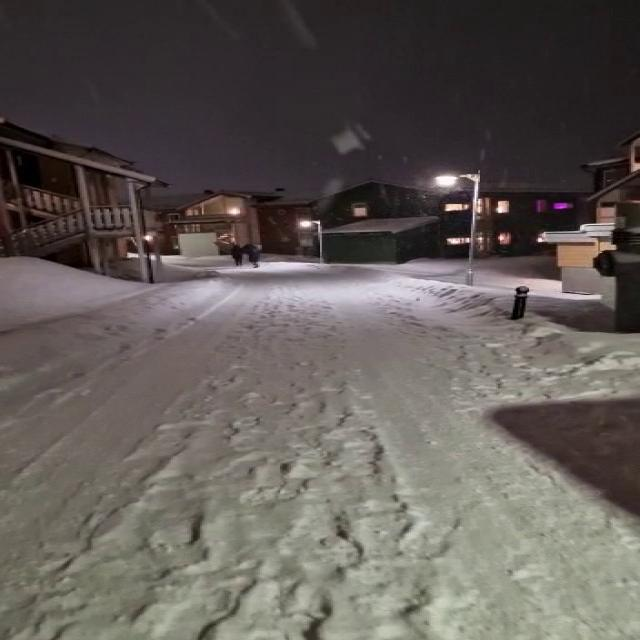path: (0, 262, 640, 640)
